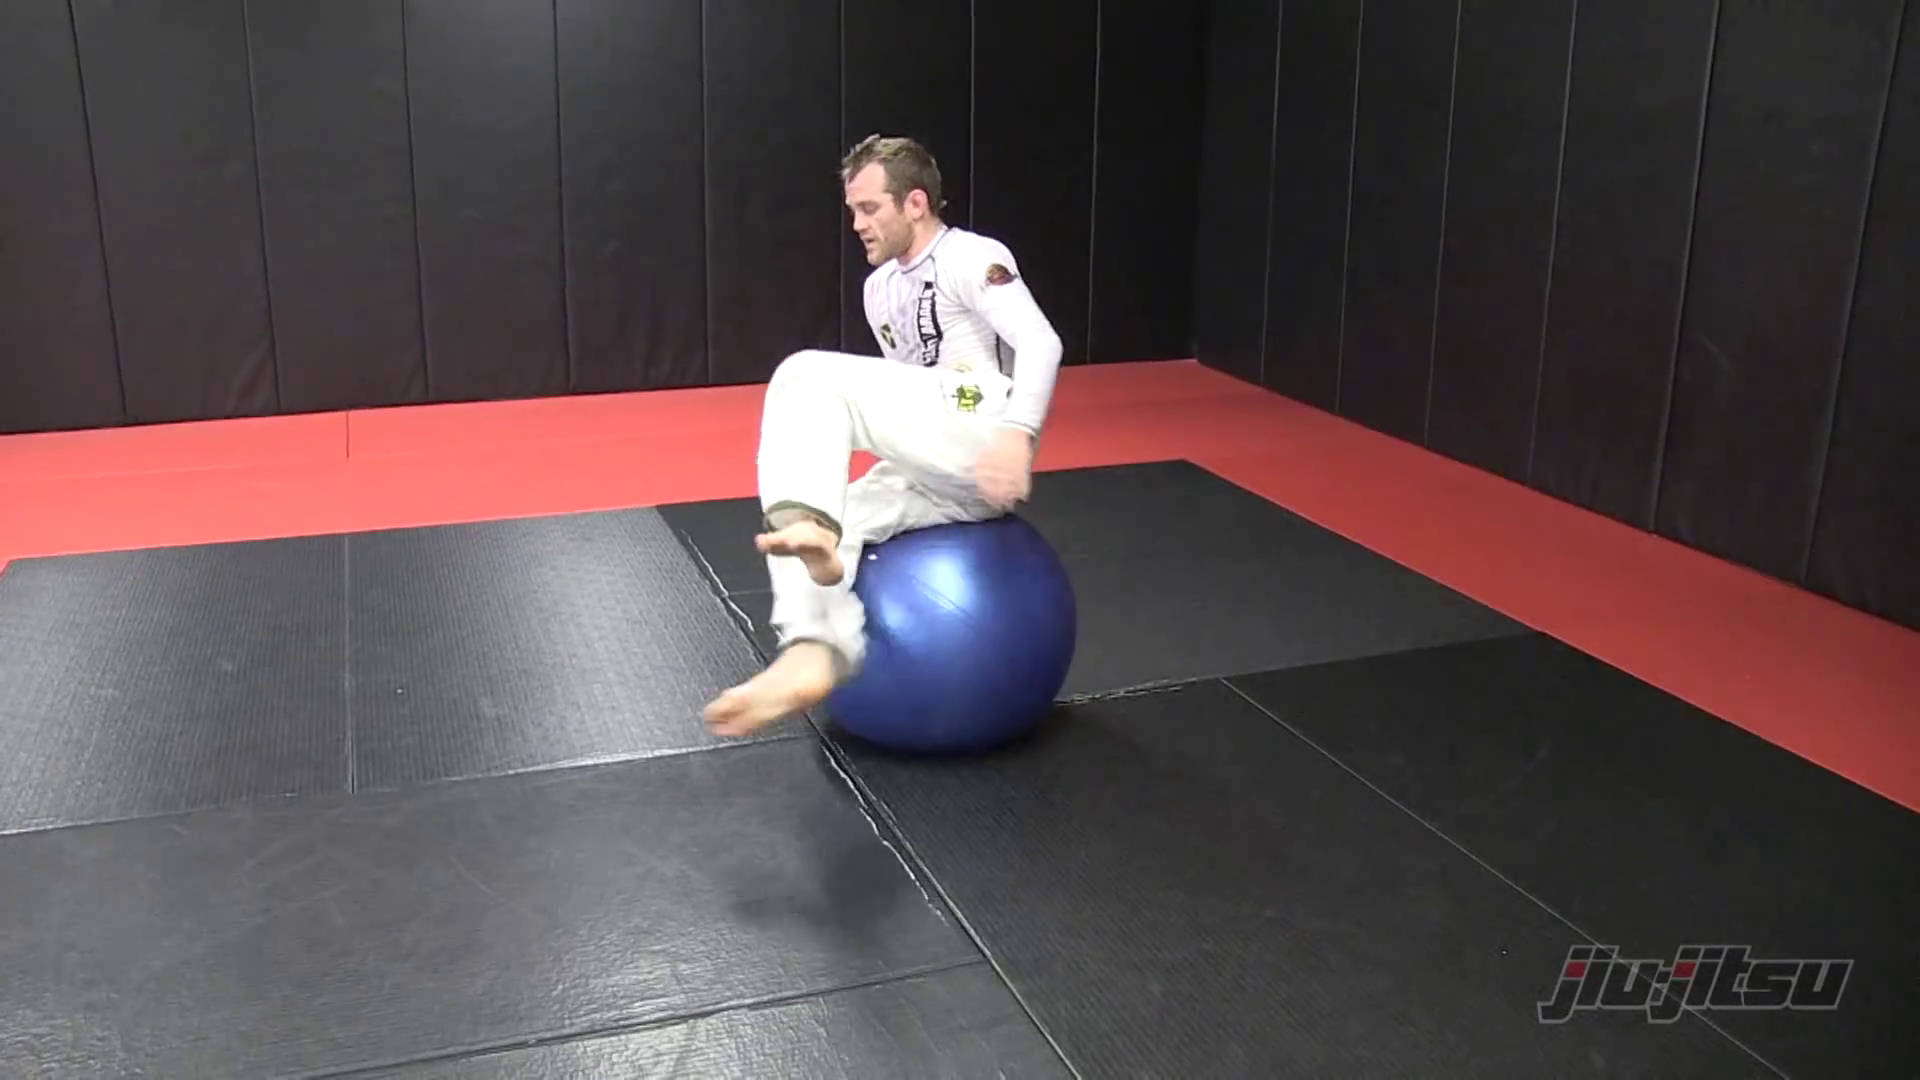yogaball: (757, 497, 1108, 770)
